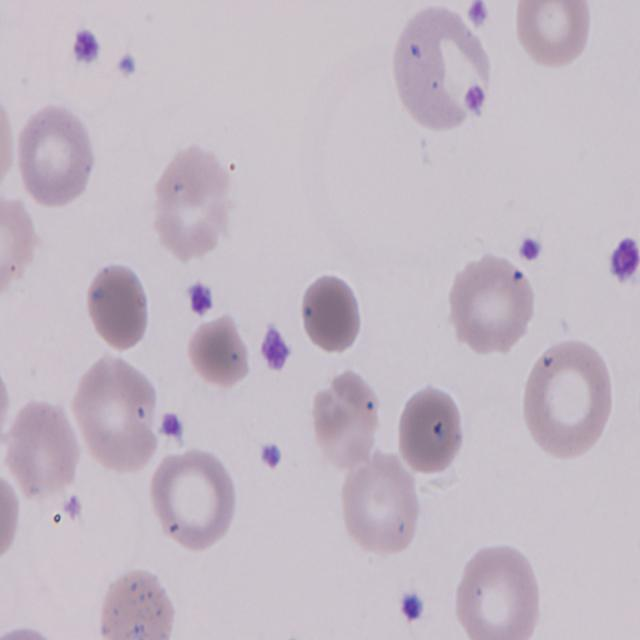Platelets: (611, 236, 640, 290)
RBC: (396, 7, 496, 141), (520, 335, 618, 463), (72, 348, 166, 474), (148, 140, 236, 262), (147, 444, 240, 556), (447, 250, 535, 361), (451, 540, 546, 638), (338, 449, 422, 559), (17, 98, 96, 210), (5, 398, 80, 506), (308, 366, 383, 470), (99, 570, 182, 640), (512, 1, 595, 70), (1, 190, 39, 306), (0, 456, 25, 591)
Spherocyte: (86, 262, 156, 354), (394, 387, 466, 476), (299, 272, 367, 354)
